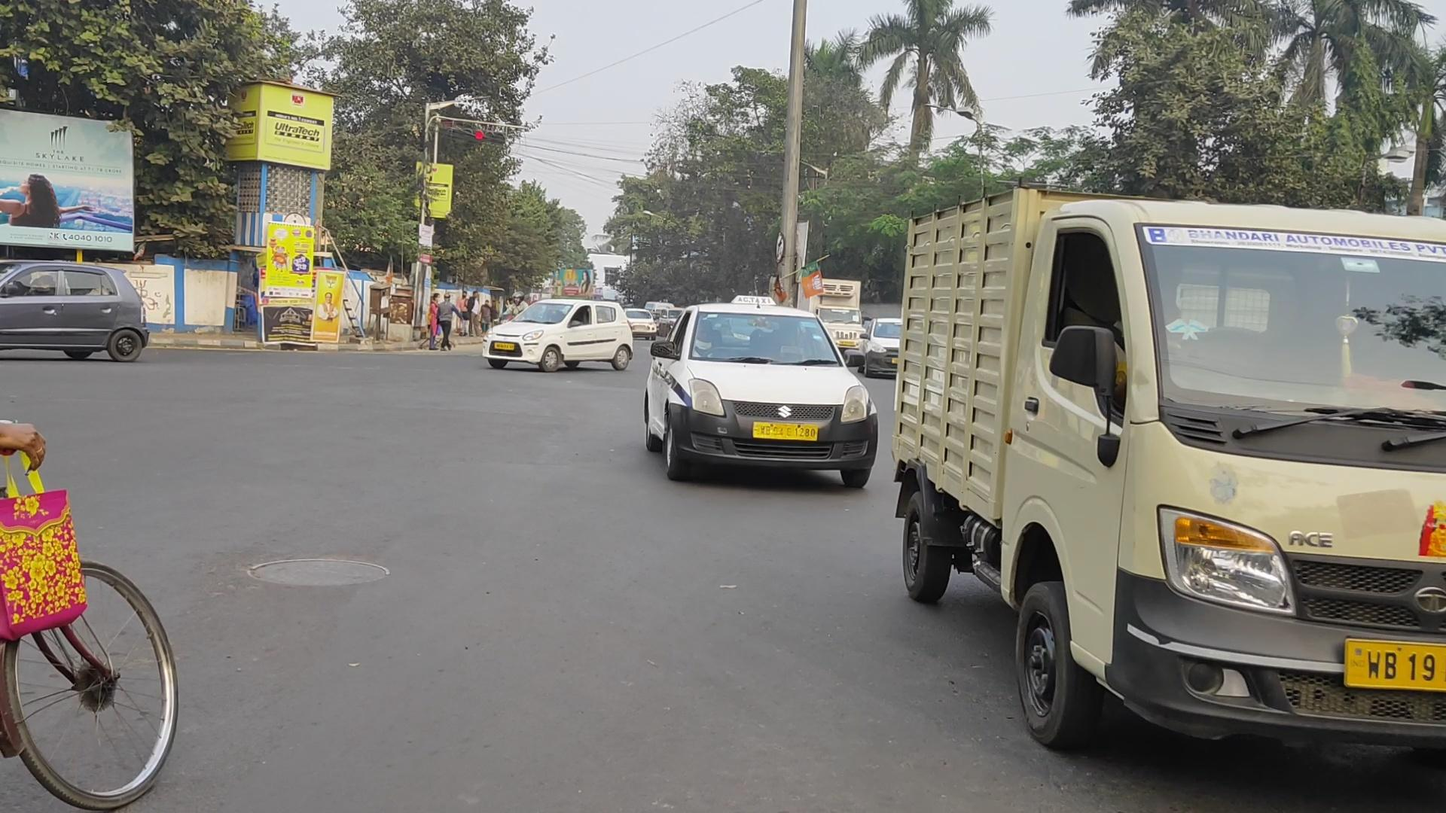bike: (1, 402, 179, 813)
car: (644, 295, 878, 489), (1, 258, 149, 363), (481, 297, 634, 373), (856, 316, 904, 379), (623, 305, 658, 343)
van: (890, 175, 1446, 754), (770, 276, 864, 359)
